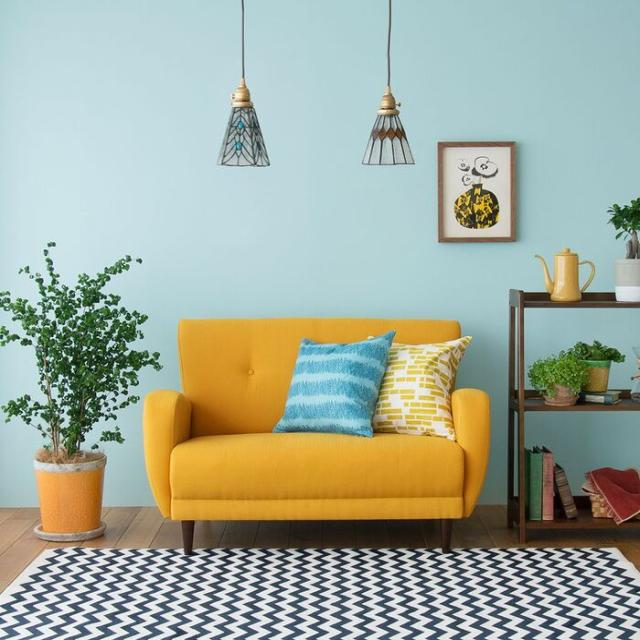natural sofa: (140, 315, 480, 548)
